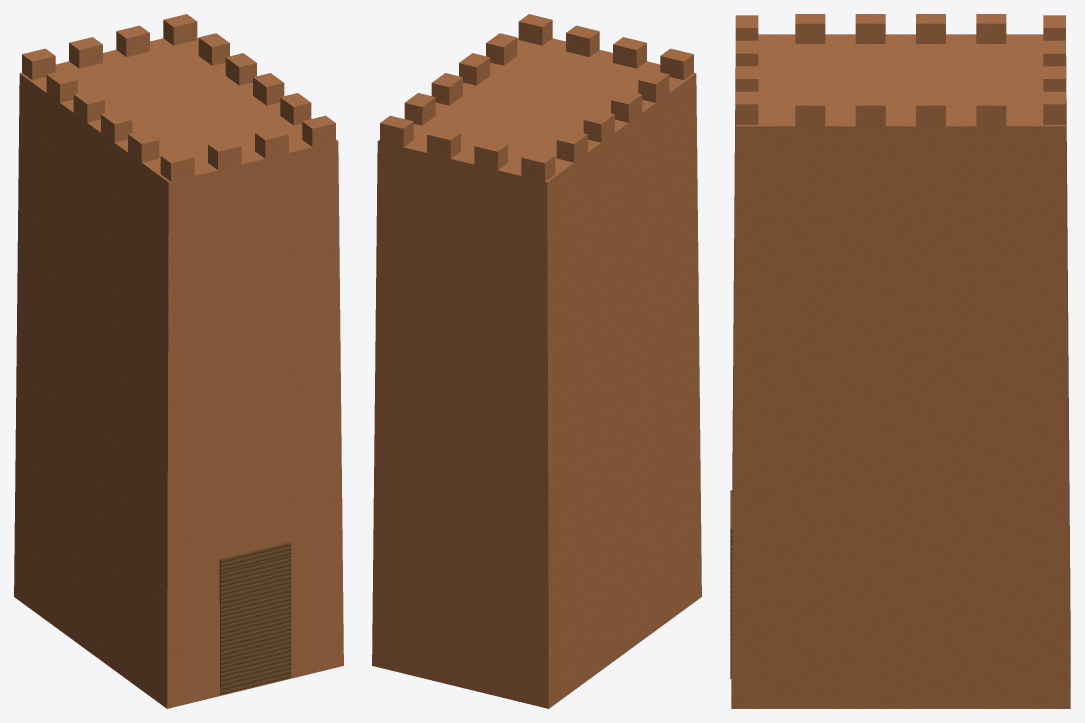
The model's file is SM_Souq_Warehouse_W3D45_Crenel.fbx.
The picture shows the model from 3 angles, left to right: view 1: azimuth 30°, elevation 25°; view 2: azimuth 150°, elevation 25°; view 3: azimuth 270°, elevation 25°; orthographic projection. The views are drawn at different scales.
Visible parts, largest first — view 1: SM_Souq_Warehouse_W3D45_Crenel; view 2: SM_Souq_Warehouse_W3D45_Crenel; view 3: SM_Souq_Warehouse_W3D45_Crenel.
Part boxes in pixels (x1,y1,x2,y2): SM_Souq_Warehouse_W3D45_Crenel: (14, 14, 343, 708); SM_Souq_Warehouse_W3D45_Crenel: (372, 14, 701, 708); SM_Souq_Warehouse_W3D45_Crenel: (730, 14, 1070, 708).
Bounding box in the file's own units: 3 × 8.8 × 4.51.
2 materials, 2 textured.
